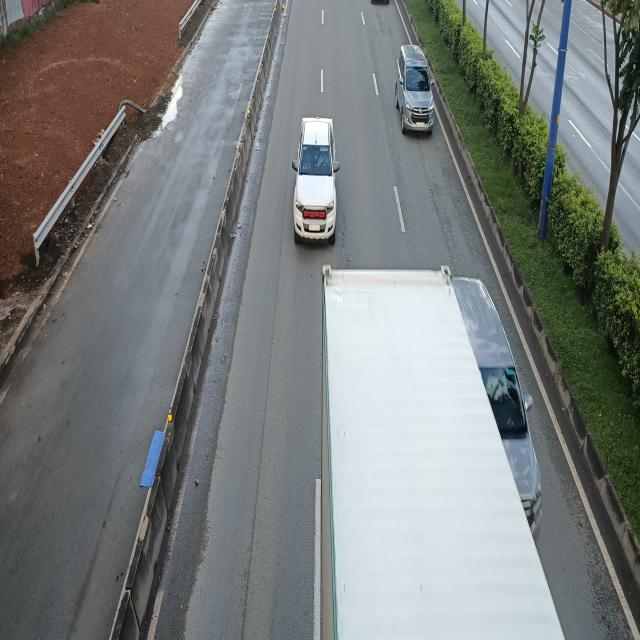car: (294, 120, 342, 248), (396, 44, 435, 135)
container: (321, 266, 564, 640)
